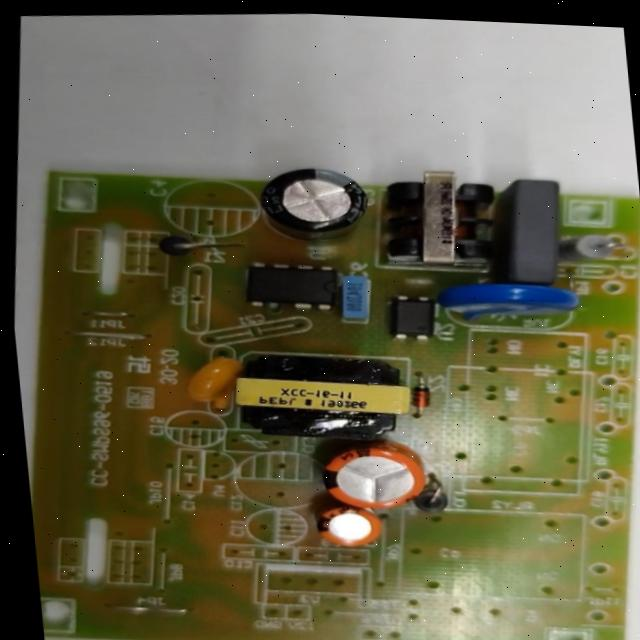Cap1: (320, 434, 434, 515)
Cap2: (317, 504, 385, 550)
Cap3: (259, 161, 375, 250)
MOSFET: (246, 257, 344, 315)
Mov: (437, 274, 588, 334)
Resistor: (556, 228, 629, 268)
Transformer: (225, 342, 417, 450), (374, 158, 508, 276)
